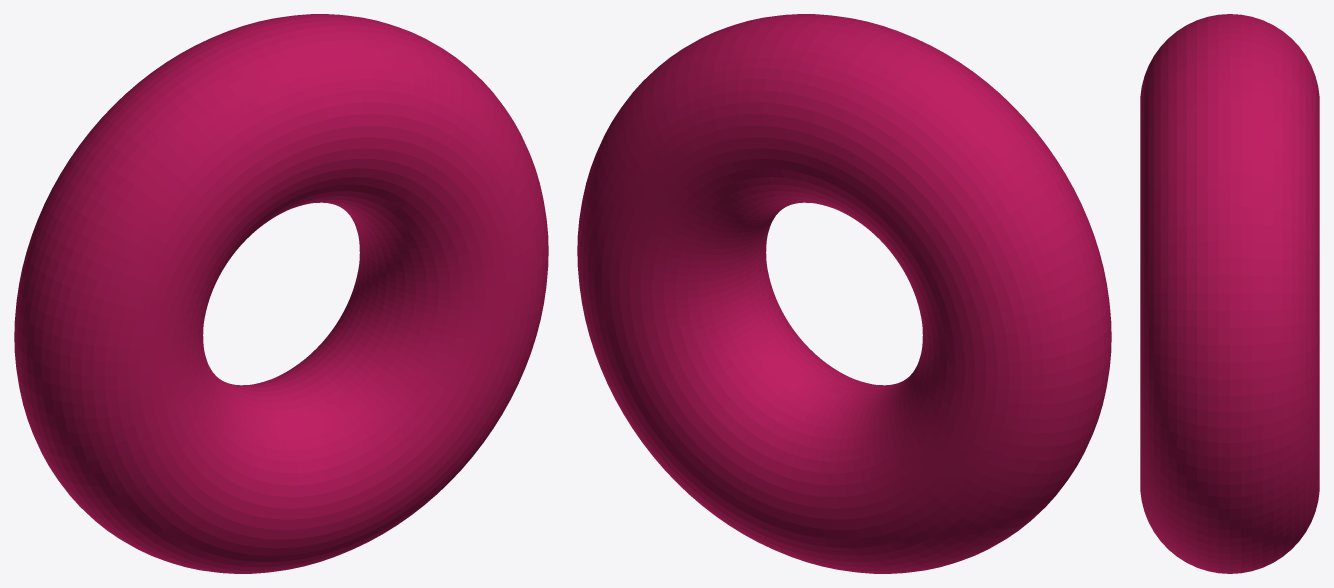
The picture shows the model from 3 angles, left to right: view 1: azimuth 30°, elevation 25°; view 2: azimuth 150°, elevation 25°; view 3: azimuth 270°, elevation 25°; orthographic projection. The views are drawn at different scales.
Visible parts, largest first — view 1: world; view 2: world; view 3: world.
Boxes of the visible parts, <box> form: world: <box>14,14,548,573</box>; world: <box>577,14,1111,573</box>; world: <box>1140,14,1319,573</box>.
Bounding box in the file's own units: 29.47 × 29.47 × 9.45.
